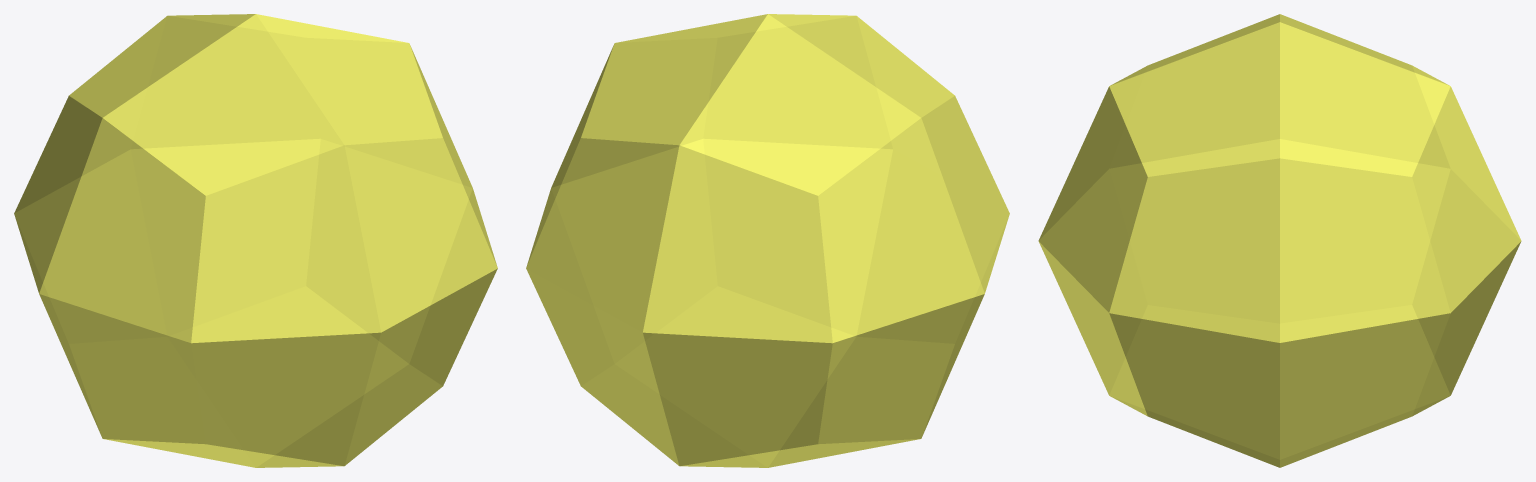
File: DeltoidalIcositetrahedron.obj
3 views of the same model, side by side, from view 1: azimuth 30°, elevation 25°; view 2: azimuth 150°, elevation 25°; view 3: azimuth 270°, elevation 25° (orthographic). The views are drawn at different scales.
Bounding box in the file's own units: 2.83 × 2.83 × 2.83.
